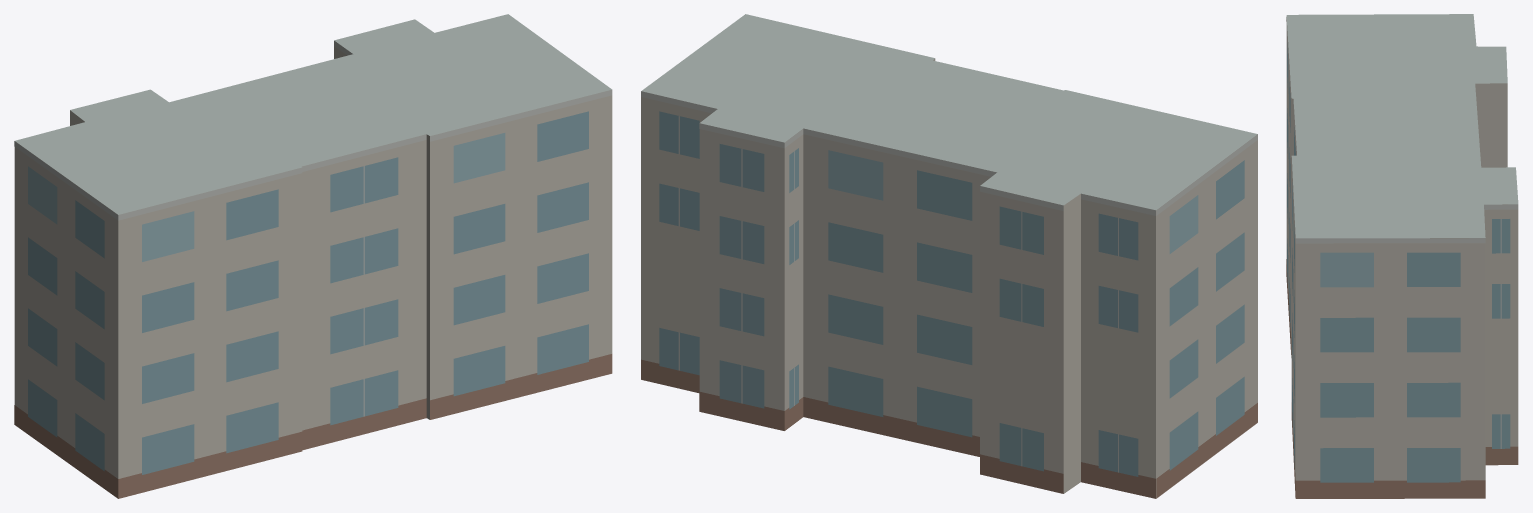
Rendered from survey-upis-32823782.glb.
3 renders of one model, left to right at view 1: azimuth 30°, elevation 25°; view 2: azimuth 150°, elevation 25°; view 3: azimuth 270°, elevation 25°, orthographic. The views are drawn at different scales.
Parts seen in each view (by area): view 1: survey-upis-32823782.tmp; view 2: survey-upis-32823782.tmp; view 3: survey-upis-32823782.tmp.
Boxes of the visible parts, x1,y1,x2,y2 form: survey-upis-32823782.tmp: [14, 14, 612, 498]; survey-upis-32823782.tmp: [641, 14, 1257, 498]; survey-upis-32823782.tmp: [1286, 14, 1518, 498].
Size of the model in its own units: 22.53 by 12.2 by 9.85.
